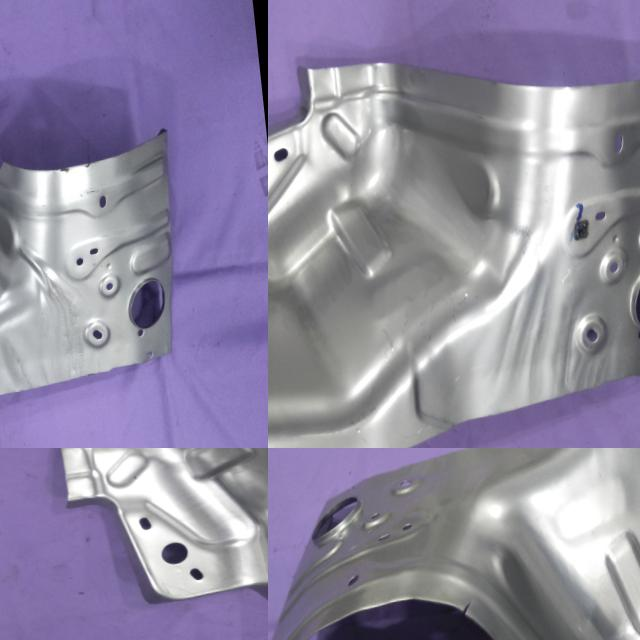Defect: (0, 145, 22, 190), (458, 588, 478, 622)
Healthy: (268, 20, 640, 448)
rust: (49, 159, 103, 181)
